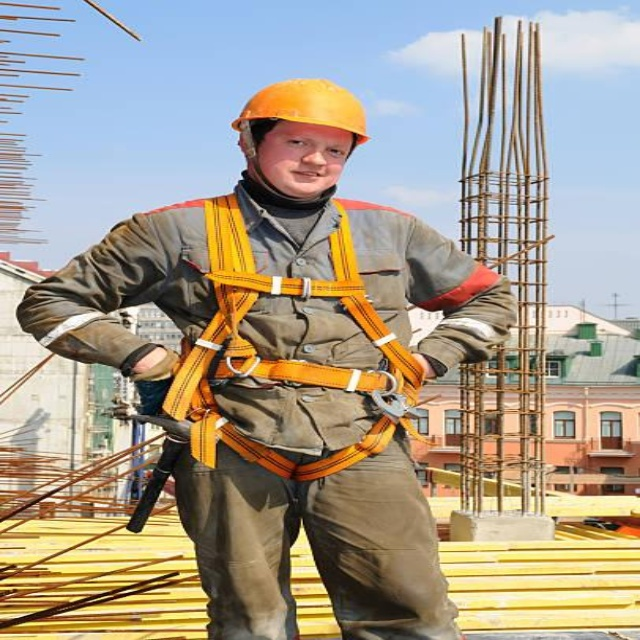Arnes_seguridad: (166, 191, 437, 488)
